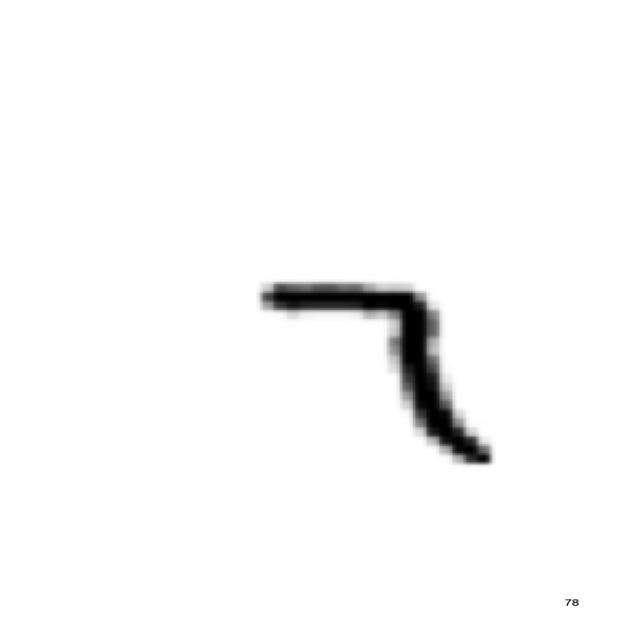6 -six-: (239, 264, 503, 473)
